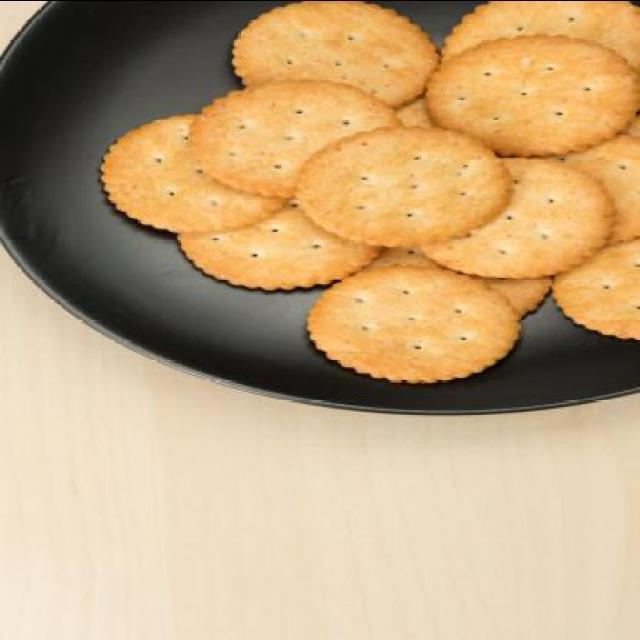Ritz cracker packaged: (91, 0, 639, 393)
